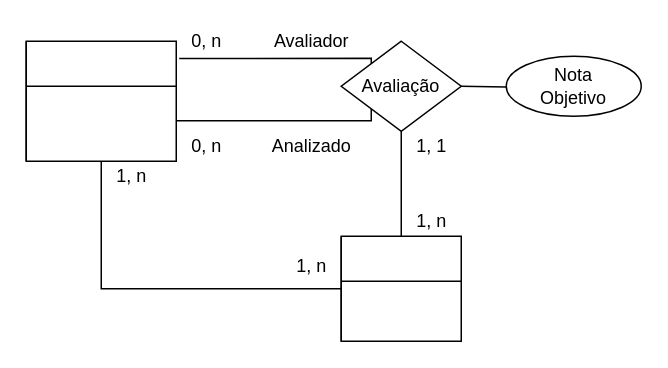
The diagram is 668 pixels wide and 368 high, and some of its shapes have lost their labels. Each missing label, with the box of its shape:
Funcionario Nome Superior N ° contribuente: (25, 40, 176, 161)
Objetivo id Descricao: (340, 235, 461, 341)
